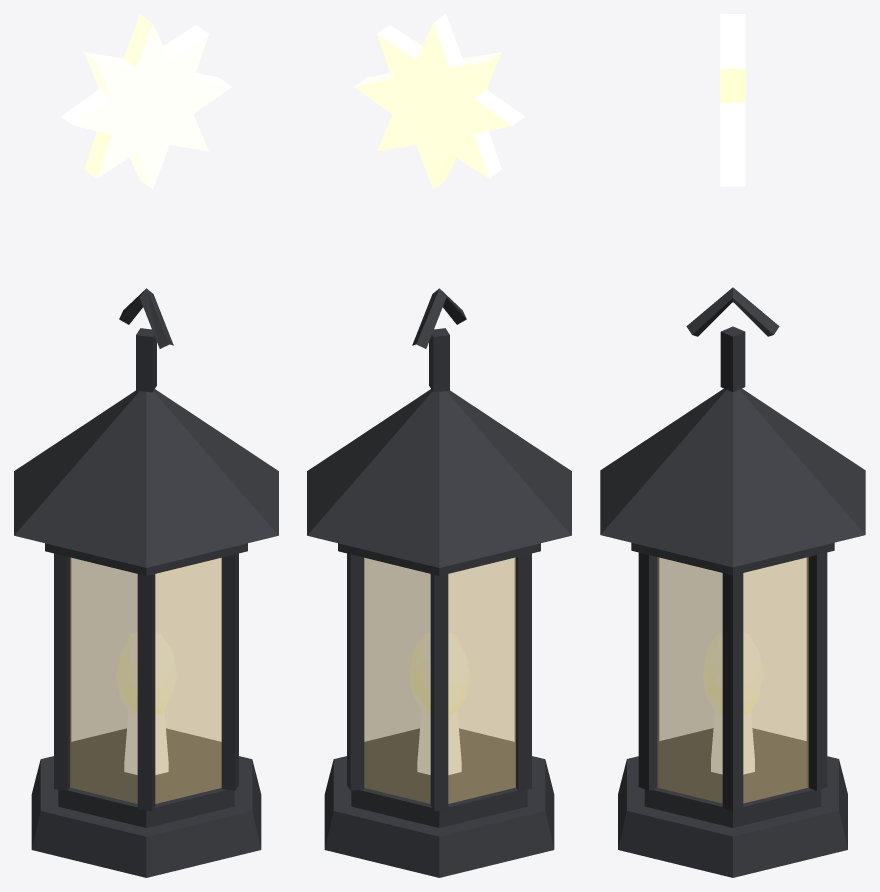
Rendered from ZB_obje_fener.glb.
3 views of the same model, side by side, from view 1: azimuth 30°, elevation 25°; view 2: azimuth 150°, elevation 25°; view 3: azimuth 270°, elevation 25° (orthographic).
Parts seen in each view (by area): view 1: ZB_obje_fener, yildiz; view 2: ZB_obje_fener, yildiz; view 3: ZB_obje_fener, yildiz.
Part boxes in pixels (x1,y1,x2,y2): ZB_obje_fener: [14, 288, 278, 877]; yildiz: [61, 14, 231, 189]; ZB_obje_fener: [307, 288, 571, 877]; yildiz: [354, 14, 524, 189]; ZB_obje_fener: [600, 287, 865, 877]; yildiz: [720, 14, 745, 186].
Size of the model in its own units: 0.3 by 0.87 by 0.2598.
